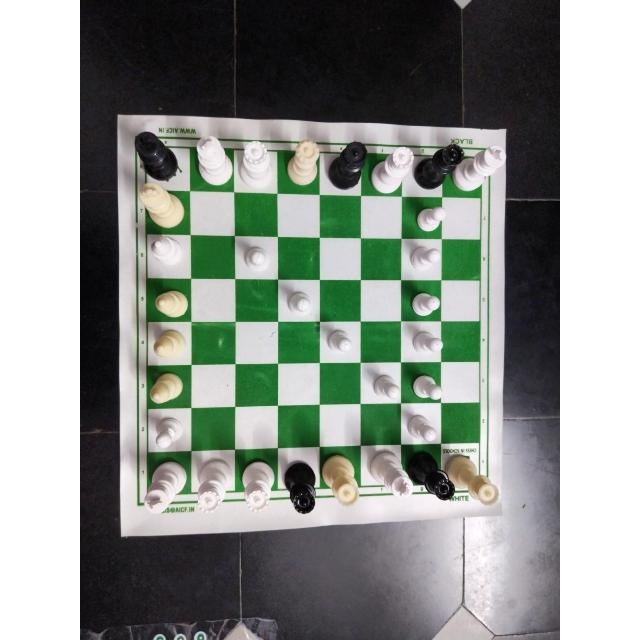black-king: (133, 127, 180, 177)
black-queen: (411, 451, 457, 503), (279, 459, 315, 517), (328, 141, 368, 191), (416, 143, 457, 191)
white-bishop: (146, 232, 188, 274), (148, 329, 192, 363), (150, 286, 190, 322), (149, 370, 185, 405)
white-king: (140, 457, 184, 516), (457, 143, 503, 195), (368, 449, 414, 501), (137, 181, 184, 229), (195, 133, 233, 185)
white-pawn: (149, 412, 189, 451), (408, 244, 444, 278), (409, 370, 445, 403), (285, 284, 317, 320), (407, 328, 443, 359), (369, 368, 401, 402), (242, 241, 273, 275), (415, 203, 447, 234), (406, 413, 438, 444), (324, 326, 356, 356), (408, 289, 442, 317)
white-queen: (448, 453, 500, 507), (193, 456, 232, 512), (322, 454, 362, 506), (234, 458, 273, 510), (369, 145, 413, 191), (238, 137, 274, 189), (285, 137, 319, 185)
